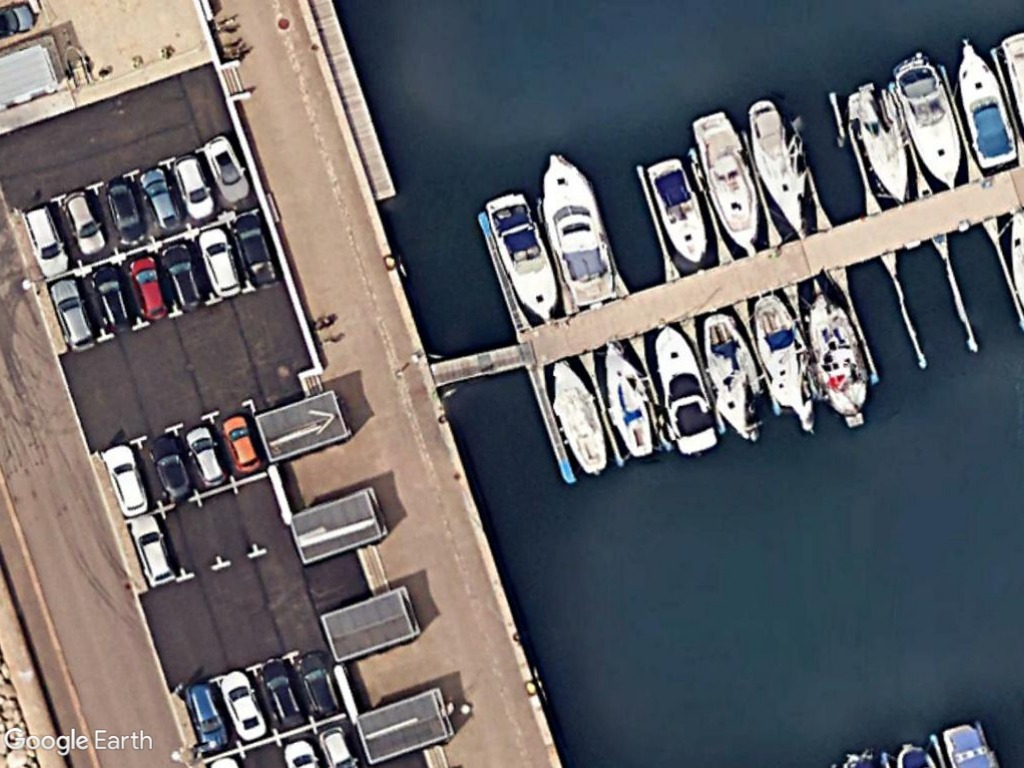boat: (538, 143, 621, 310), (690, 106, 767, 260), (483, 185, 565, 325), (888, 51, 966, 194), (747, 94, 816, 246), (803, 284, 876, 423), (751, 293, 821, 435), (952, 36, 1023, 173), (697, 308, 768, 445), (650, 324, 722, 458), (848, 77, 911, 212), (546, 354, 614, 479), (598, 340, 661, 462), (646, 153, 711, 269)
car: (22, 201, 76, 283), (45, 277, 101, 356), (196, 224, 246, 308), (98, 441, 150, 519), (146, 424, 192, 511), (199, 132, 253, 204), (101, 173, 151, 250), (155, 239, 207, 313), (59, 187, 111, 261), (219, 668, 270, 743), (182, 681, 233, 755), (90, 260, 139, 336), (124, 246, 172, 323), (131, 516, 180, 591), (136, 163, 185, 236), (219, 412, 267, 479), (183, 422, 230, 490), (172, 153, 219, 221)
